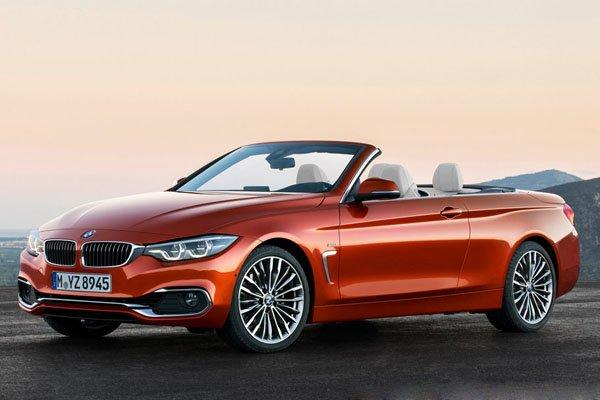car: (12, 136, 583, 352)
